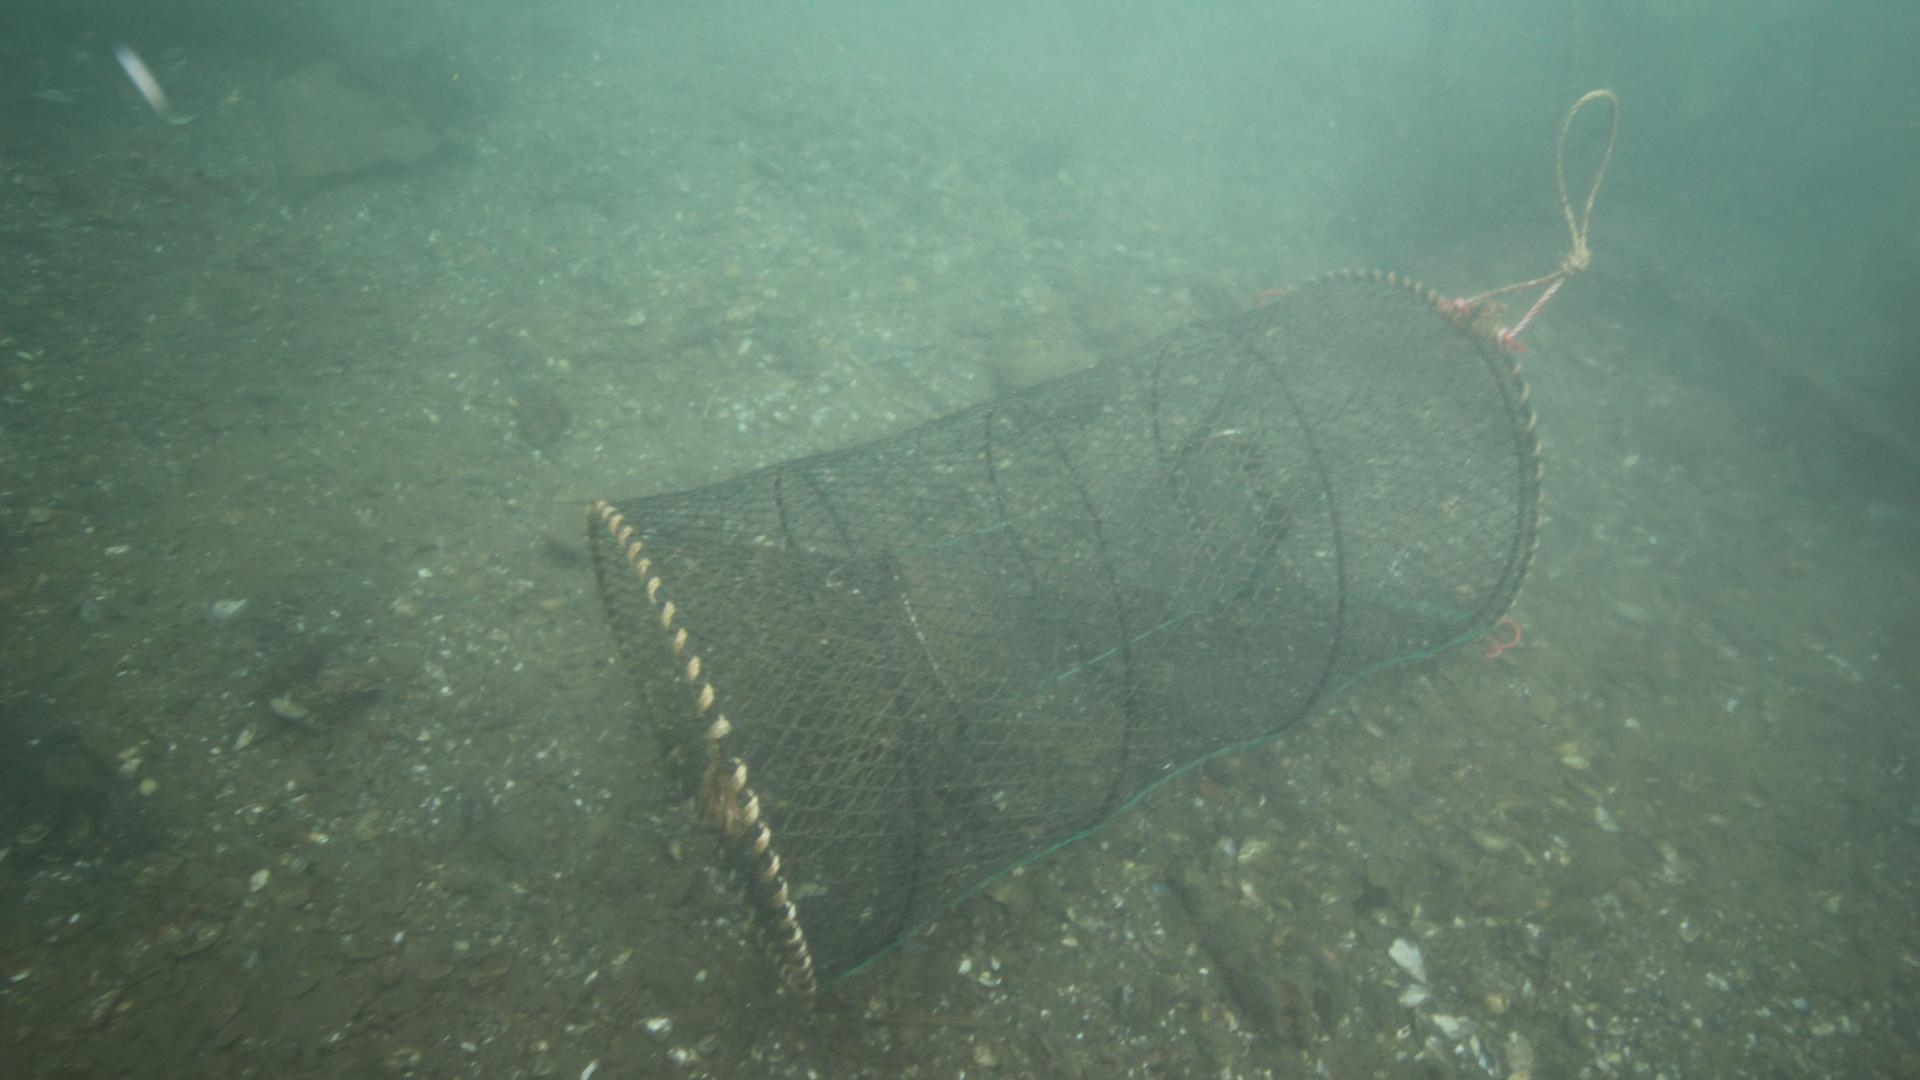bundle of ropes: (1466, 74, 1630, 328)
spring fish trap: (582, 262, 1547, 1000)
